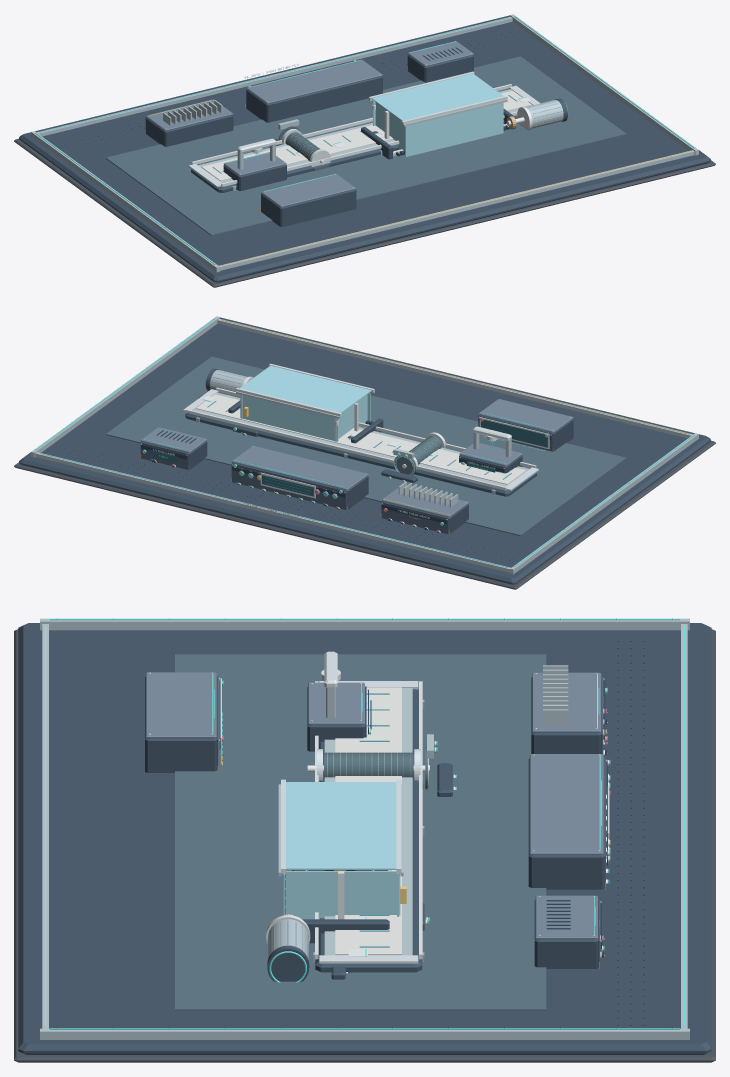
File: Level49_Complete_13Piece_Kit_Preview.fbx
3 renders of one model, top to bottom at view 1: azimuth 30°, elevation 25°; view 2: azimuth 150°, elevation 25°; view 3: azimuth 270°, elevation 25°, orthographic. The views are drawn at different scales.
Visible parts, largest first — view 1: Model::00_L49_IndustrialFrame__L49_FRAME_CNC_MachinedFoundat, Model::00_L49_IndustrialFrame__L49_FRAME_SteelBedInsert, Model::00_L49_IndustrialFrame__L49_FRAME_RubberChassisIsolat, Model::10_L49_SafetyGuard__L49_GUARD_ClearAcrylicRoof, Model::10_L49_SafetyGuard__L49_GUARD_RearClearScreen, Model::00_L49_IndustrialFrame__L49_FRAME_Crossbeam_11.1, Model::00_L49_IndustrialFrame__L49_FRAME_Crossbeam_-11.1, Model::09_L49_RegistrationController__L49_CTRL_Chassis, Model::09_L49_RegistrationController__L49_CTRL_Top_Lid, Model::01_L49_WebTransport__L49_WEB_ContinuousPrintedMateria, Model::11_L49_QualityMonitor__L49_QUALITY_Chassis, Model::11_L49_QualityMonitor__L49_QUALITY_Top_Lid (+18 smaller); view 2: Model::00_L49_IndustrialFrame__L49_FRAME_CNC_MachinedFoundat, Model::00_L49_IndustrialFrame__L49_FRAME_SteelBedInsert, Model::00_L49_IndustrialFrame__L49_FRAME_RubberChassisIsolat, Model::10_L49_SafetyGuard__L49_GUARD_ClearAcrylicRoof, Model::01_L49_WebTransport__L49_WEB_ContinuousPrintedMateria, Model::00_L49_IndustrialFrame__L49_FRAME_Crossbeam_11.1, Model::00_L49_IndustrialFrame__L49_FRAME_Crossbeam_-11.1, Model::09_L49_RegistrationController__L49_CTRL_Top_Lid, Model::10_L49_SafetyGuard__L49_GUARD_HingedFrontClearDoor, Model::01_L49_WebTransport__L49_WEB_ConveyorChassis, Model::11_L49_QualityMonitor__L49_QUALITY_Top_Lid, Model::00_L49_IndustrialFrame__L49_FRAME_ExtrudedEdgeRail_-1 (+21 smaller); view 3: Model::00_L49_IndustrialFrame__L49_FRAME_CNC_MachinedFoundat, Model::00_L49_IndustrialFrame__L49_FRAME_SteelBedInsert, Model::00_L49_IndustrialFrame__L49_FRAME_RubberChassisIsolat, Model::10_L49_SafetyGuard__L49_GUARD_ClearAcrylicRoof, Model::09_L49_RegistrationController__L49_CTRL_Top_Lid, Model::00_L49_IndustrialFrame__L49_FRAME_ExtrudedEdgeRail_-1, Model::00_L49_IndustrialFrame__L49_FRAME_ExtrudedEdgeRail_16, Model::01_L49_WebTransport__L49_WEB_ContinuousPrintedMateria, Model::10_L49_SafetyGuard__L49_GUARD_SideAcrylic_+4.0, Model::11_L49_QualityMonitor__L49_QUALITY_Top_Lid, Model::01_L49_WebTransport__L49_WEB_ContactBed, Model::09_L49_RegistrationController__L49_CTRL_Chassis (+18 smaller).
Boxes of the visible parts, x1,y1,x2,y2 form: Model::00_L49_IndustrialFrame__L49_FRAME_CNC_MachinedFoundat: (19,15,710,282); Model::00_L49_IndustrialFrame__L49_FRAME_SteelBedInsert: (106,56,626,235); Model::00_L49_IndustrialFrame__L49_FRAME_RubberChassisIsolat: (14,138,715,287); Model::10_L49_SafetyGuard__L49_GUARD_ClearAcrylicRoof: (371,73,503,120); Model::10_L49_SafetyGuard__L49_GUARD_RearClearScreen: (405,102,503,157); Model::00_L49_IndustrialFrame__L49_FRAME_Crossbeam_11.1: (219,150,694,270); Model::00_L49_IndustrialFrame__L49_FRAME_Crossbeam_-11.1: (36,17,512,136); Model::09_L49_RegistrationController__L49_CTRL_Chassis: (246,76,382,122); Model::09_L49_RegistrationController__L49_CTRL_Top_Lid: (246,59,382,103); Model::01_L49_WebTransport__L49_WEB_ContinuousPrintedMateria: (201,90,531,180); Model::11_L49_QualityMonitor__L49_QUALITY_Chassis: (261,189,356,226); Model::11_L49_QualityMonitor__L49_QUALITY_Top_Lid: (261,173,355,207); Model::00_L49_IndustrialFrame__L49_FRAME_CNC_MachinedFoundat: (19,317,710,584); Model::00_L49_IndustrialFrame__L49_FRAME_SteelBedInsert: (106,356,626,535); Model::00_L49_IndustrialFrame__L49_FRAME_RubberChassisIsolat: (14,440,715,589); Model::10_L49_SafetyGuard__L49_GUARD_ClearAcrylicRoof: (240,365,371,412); Model::01_L49_WebTransport__L49_WEB_ContinuousPrintedMateria: (196,394,526,484); Model::00_L49_IndustrialFrame__L49_FRAME_Crossbeam_11.1: (217,319,693,438); Model::00_L49_IndustrialFrame__L49_FRAME_Crossbeam_-11.1: (35,452,510,572); Model::09_L49_RegistrationController__L49_CTRL_Top_Lid: (232,445,368,489); Model::10_L49_SafetyGuard__L49_GUARD_HingedFrontClearDoor: (240,395,338,441); Model::01_L49_WebTransport__L49_WEB_ConveyorChassis: (185,413,536,496); Model::11_L49_QualityMonitor__L49_QUALITY_Top_Lid: (478,399,573,432); Model::00_L49_IndustrialFrame__L49_FRAME_ExtrudedEdgeRail_-1: (510,433,698,574); Model::00_L49_IndustrialFrame__L49_FRAME_CNC_MachinedFoundat: (18,623,711,1054); Model::00_L49_IndustrialFrame__L49_FRAME_SteelBedInsert: (175,654,546,1010); Model::00_L49_IndustrialFrame__L49_FRAME_RubberChassisIsolat: (14,629,715,1062); Model::10_L49_SafetyGuard__L49_GUARD_ClearAcrylicRoof: (286,782,396,869); Model::09_L49_RegistrationController__L49_CTRL_Top_Lid: (529,754,603,854); Model::00_L49_IndustrialFrame__L49_FRAME_ExtrudedEdgeRail_-1: (40,618,689,630); Model::00_L49_IndustrialFrame__L49_FRAME_ExtrudedEdgeRail_16: (40,1028,689,1039); Model::01_L49_WebTransport__L49_WEB_ContinuousPrintedMateria: (335,687,401,954); Model::10_L49_SafetyGuard__L49_GUARD_SideAcrylic_+4.0: (285,871,396,919); Model::11_L49_QualityMonitor__L49_QUALITY_Top_Lid: (146,672,216,738); Model::01_L49_WebTransport__L49_WEB_ContactBed: (324,688,412,955); Model::09_L49_RegistrationController__L49_CTRL_Chassis: (528,758,604,889).
Size of the model in its own units: 35.4 by 3.14 by 24.4.
